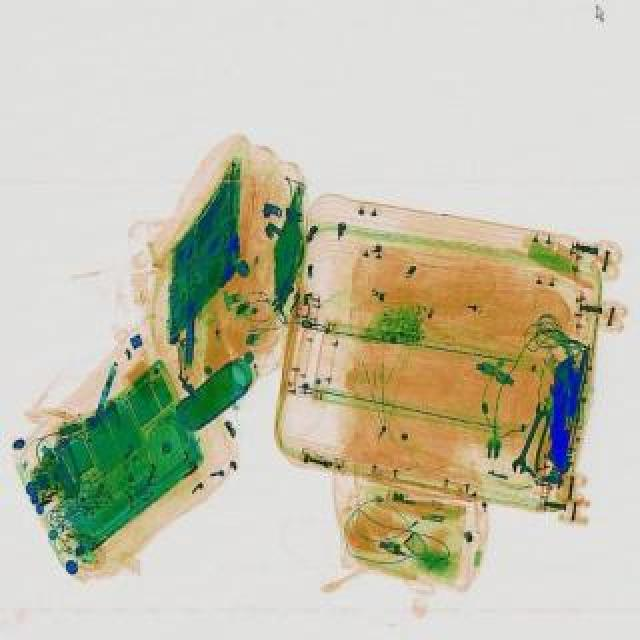scissors: (508, 400, 552, 474)
